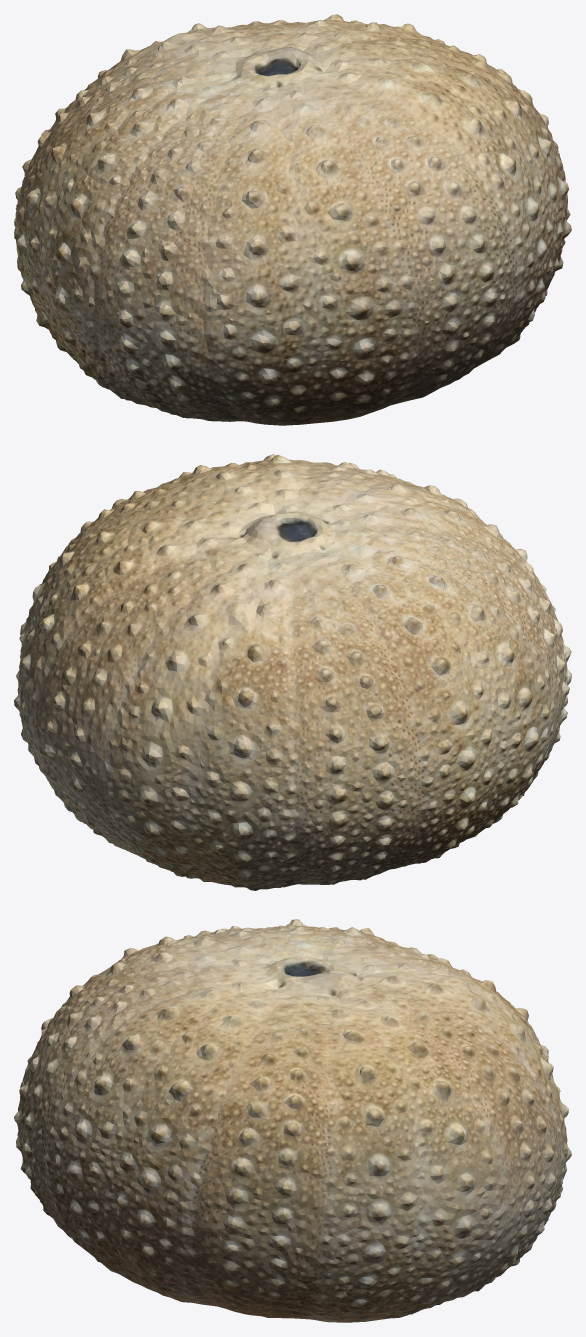
The model's file is Sea Urchin.glb.
3 views of the same model, one above another, from view 1: azimuth 30°, elevation 25°; view 2: azimuth 150°, elevation 25°; view 3: azimuth 270°, elevation 25° (orthographic).
Bounding box in the file's own units: 0.4642 × 0.286 × 0.4668.
1 material, 1 textured.
